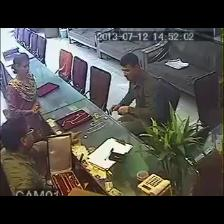person: (110, 54, 159, 135), (1, 116, 48, 191), (1, 116, 44, 189), (7, 53, 42, 138)
